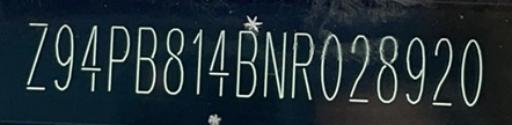letter: (24, 19, 50, 92), (161, 24, 187, 97), (430, 34, 456, 107), (459, 35, 485, 108), (106, 24, 132, 95), (234, 29, 260, 100), (262, 29, 288, 100), (346, 34, 372, 105), (79, 23, 105, 92), (134, 25, 160, 94), (206, 27, 232, 96), (52, 21, 76, 92), (290, 31, 314, 102), (319, 32, 343, 103), (376, 34, 400, 105), (404, 36, 426, 105), (188, 26, 206, 95)
